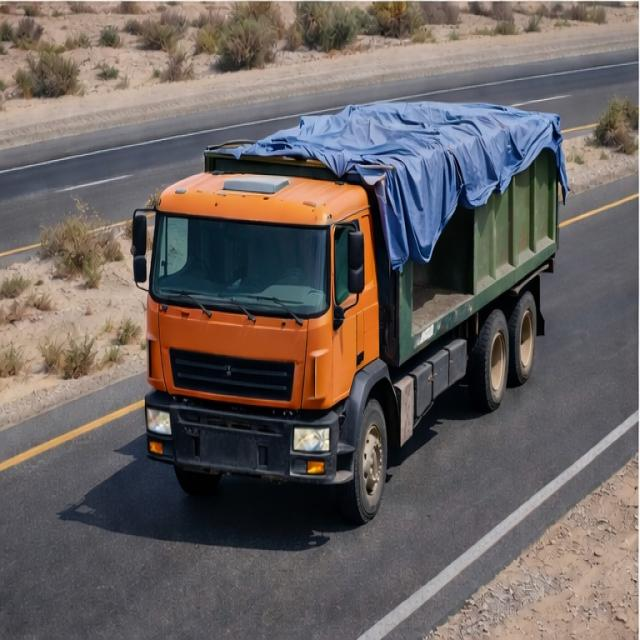trailer: (206, 92, 561, 188)
truck: (128, 84, 568, 522)
